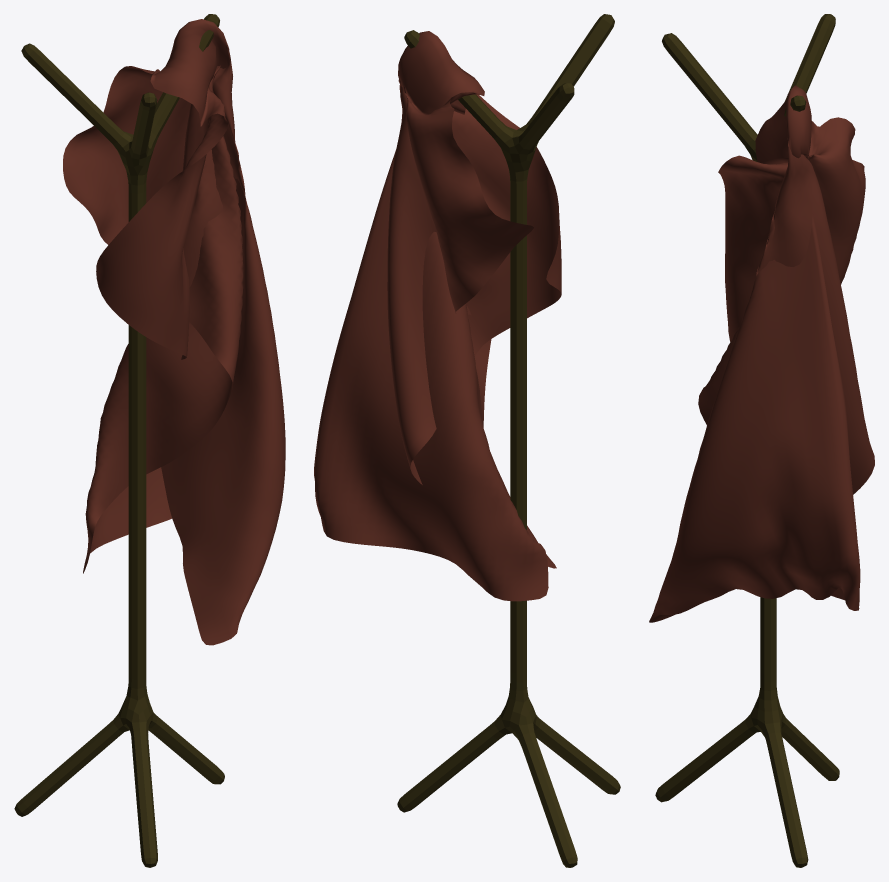
File: cuier.fbx
The picture shows the model from 3 angles, left to right: view 1: azimuth 30°, elevation 25°; view 2: azimuth 150°, elevation 25°; view 3: azimuth 270°, elevation 25°; orthographic projection.
Parts seen in each view (by area): view 1: Plane.008; view 2: Plane.008; view 3: Plane.008.
Boxes of the visible parts, x1,y1,x2,y2 form: Plane.008: [14, 14, 285, 867]; Plane.008: [314, 14, 620, 867]; Plane.008: [649, 14, 874, 867].
Bounding box in the file's own units: 84.18 × 249 × 66.13.
